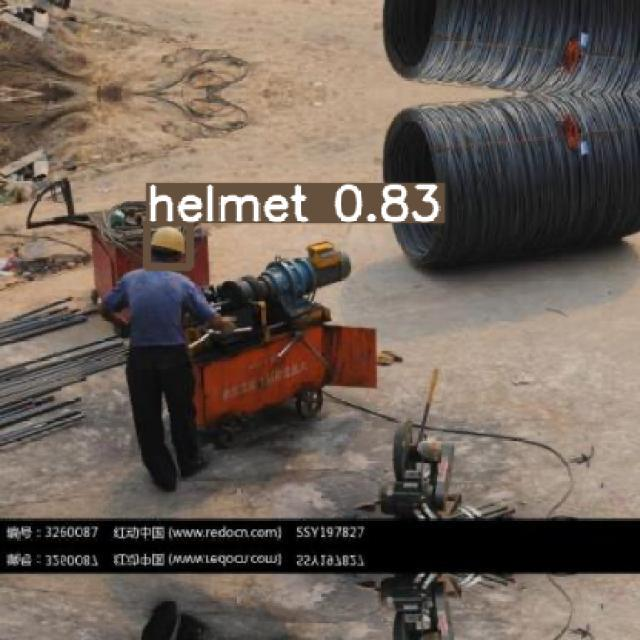Helmet: (149, 225, 185, 255)
